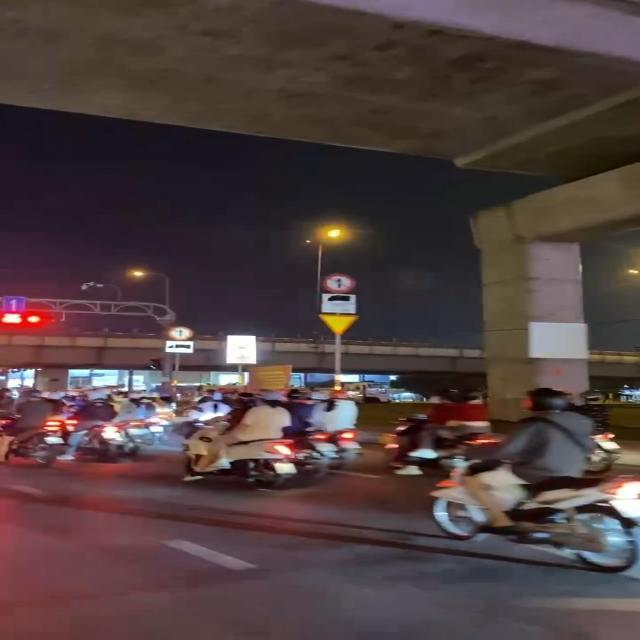136-cam-di-thang: (320, 274, 356, 293), (168, 326, 194, 341)
208-giao-nhau-voi-duong-uu-tien: (318, 314, 358, 336)
